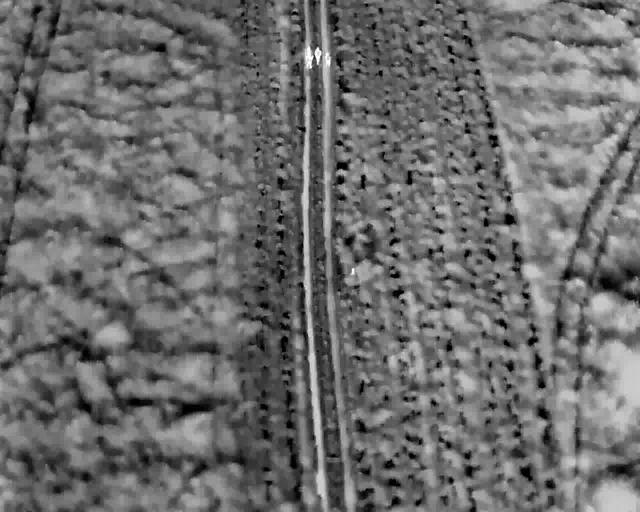person: (313, 44, 323, 66), (323, 50, 333, 69), (304, 50, 314, 69), (304, 45, 314, 64)
